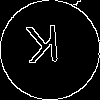K: (25, 25, 62, 73)
